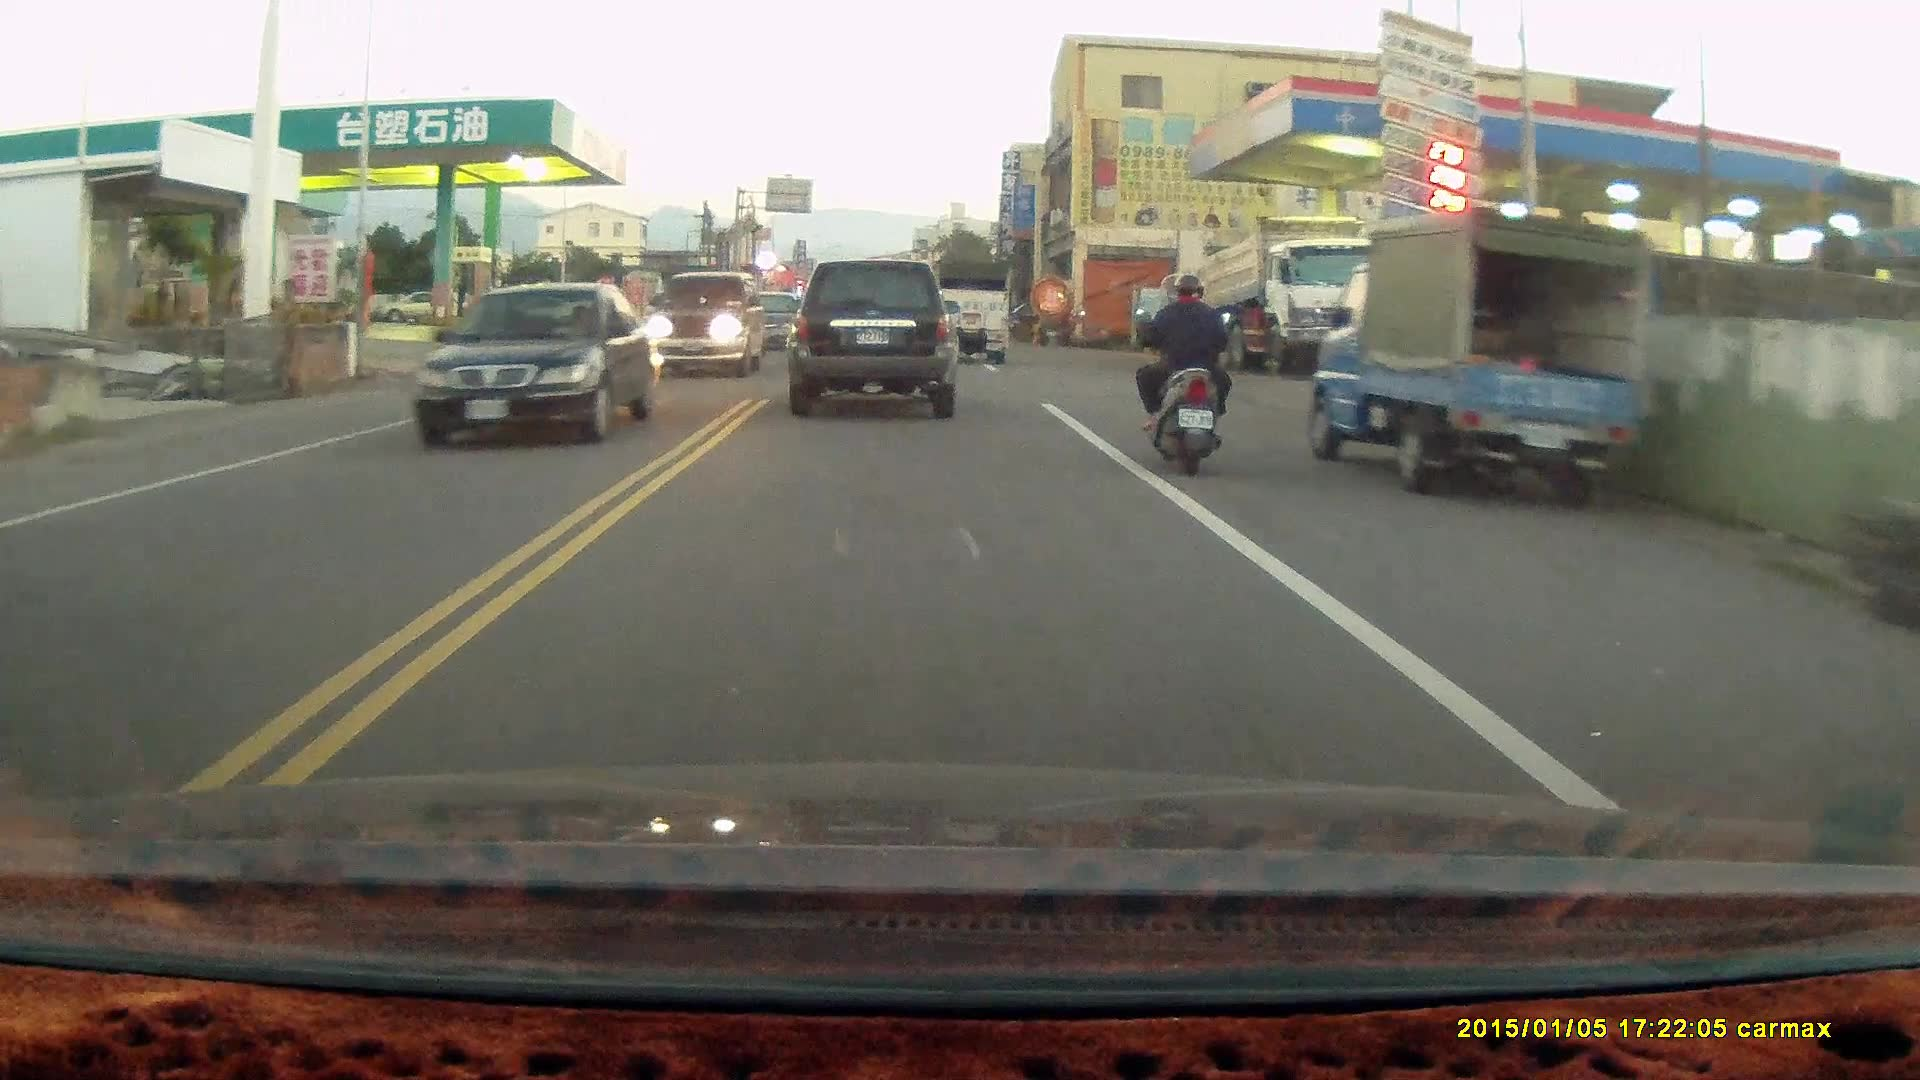rider: (1134, 275, 1235, 479)
vehicle: (1310, 214, 1660, 498), (415, 287, 665, 450), (788, 264, 957, 420), (648, 270, 771, 382), (919, 255, 1013, 366)
